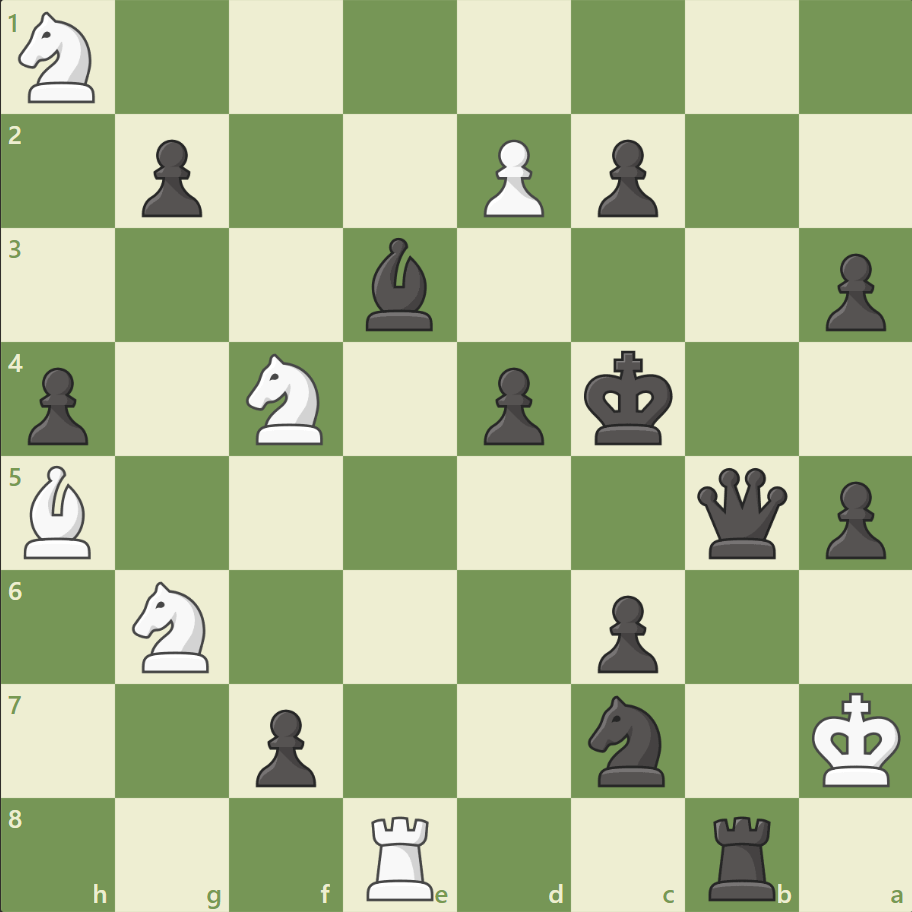B: (17, 460, 101, 563)
K: (806, 685, 906, 793)
N: (124, 575, 222, 677), (11, 7, 108, 110), (238, 348, 335, 450)
P: (474, 132, 549, 223)
R: (360, 806, 442, 904)
b: (358, 233, 442, 336)
k: (579, 344, 679, 452)
n: (579, 688, 676, 791)
p: (247, 700, 322, 791), (474, 359, 549, 450), (20, 359, 95, 450), (133, 132, 208, 223), (588, 586, 662, 677), (815, 473, 889, 564), (815, 246, 889, 337), (588, 132, 662, 223)
q: (691, 463, 790, 562)
r: (700, 806, 783, 904)
